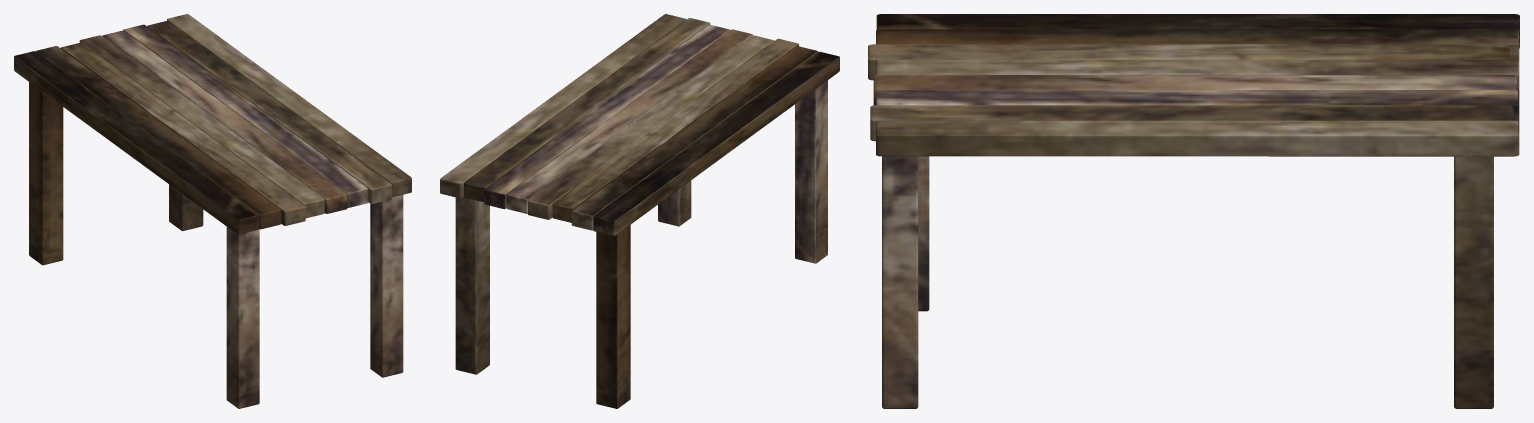
Rendered from Table2.fbx.
3 views of the same model, side by side, from view 1: azimuth 30°, elevation 25°; view 2: azimuth 150°, elevation 25°; view 3: azimuth 270°, elevation 25° (orthographic). The views are drawn at different scales.
Visible parts, largest first — view 1: Table_Top, Leg_2, Leg_3, Leg_4, Leg_1; view 2: Table_Top, Leg_4, Leg_1, Leg_3, Leg_2; view 3: Table_Top, Leg_1, Leg_2, Leg_3.
Boxes of the visible parts, bbox=[...] form: Table_Top: bbox=[14, 14, 411, 234]; Leg_2: bbox=[370, 195, 403, 377]; Leg_3: bbox=[226, 227, 259, 408]; Leg_4: bbox=[29, 82, 63, 265]; Leg_1: bbox=[169, 184, 203, 231]; Table_Top: bbox=[440, 14, 839, 235]; Leg_4: bbox=[596, 225, 630, 408]; Leg_1: bbox=[455, 197, 489, 374]; Leg_3: bbox=[795, 80, 827, 263]; Leg_2: bbox=[658, 180, 691, 226]; Table_Top: bbox=[868, 14, 1519, 156]; Leg_1: bbox=[1454, 156, 1493, 408]; Leg_2: bbox=[882, 156, 918, 408]; Leg_3: bbox=[918, 156, 929, 311].
Size of the model in its own units: 136 by 146 by 308.
Materials: 1 (1 with a texture image).
